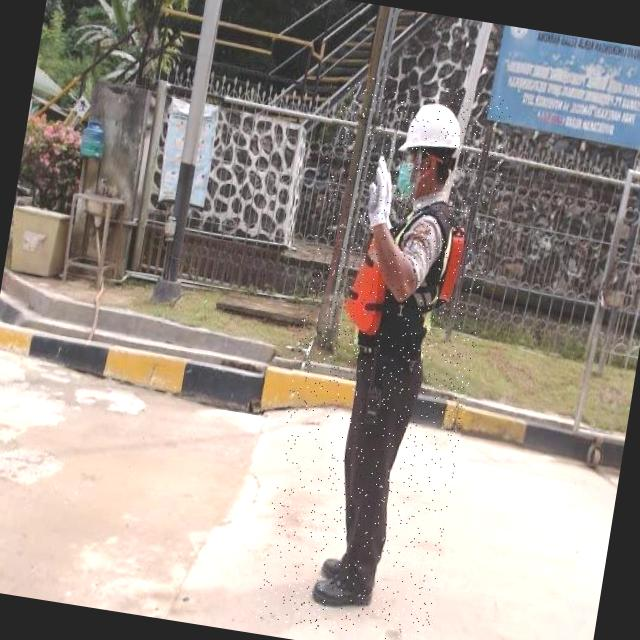boots: (304, 567, 374, 618), (318, 552, 352, 581)
helmet: (394, 99, 467, 168)
vest: (336, 191, 470, 365)
